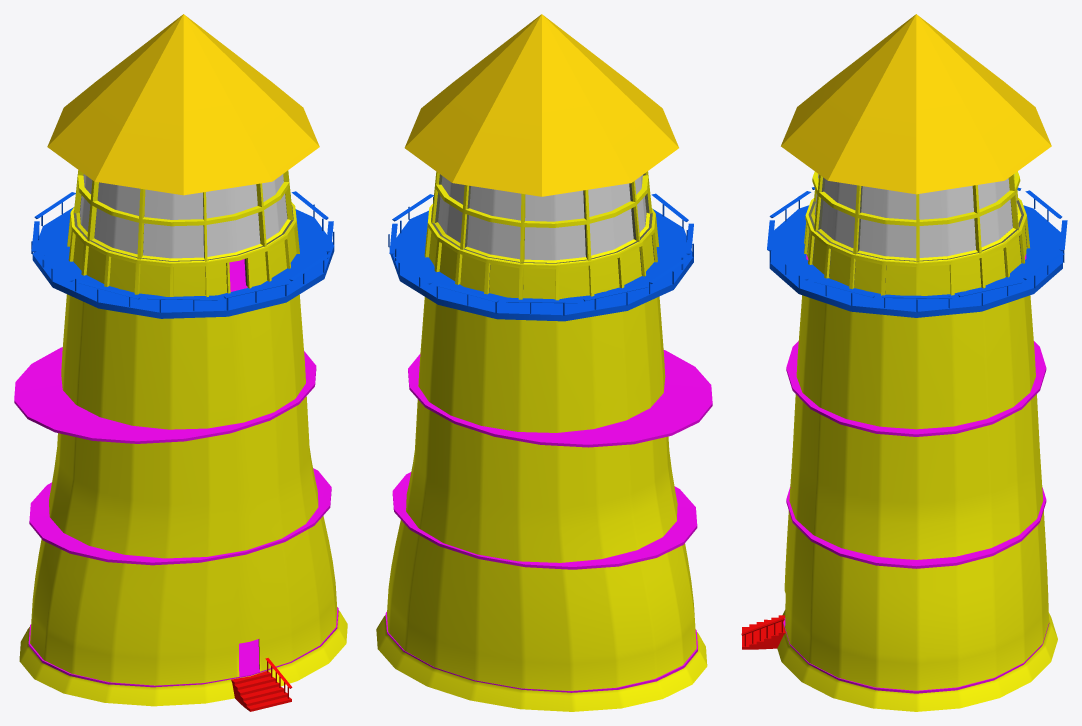
File: lighthouse_v7.fbx
The picture shows the model from 3 angles, left to right: view 1: azimuth 30°, elevation 25°; view 2: azimuth 150°, elevation 25°; view 3: azimuth 270°, elevation 25°; orthographic projection.
Parts seen in each view (by area): view 1: lighthouse_exterior, roof, Windows, balcony, floor_3, floor_2, balcony_rail, stair_entrance, floor_1, floor_4_wall; view 2: lighthouse_exterior, roof, Windows, balcony, floor_3, floor_2, balcony_rail, floor_4_wall, floor_1; view 3: lighthouse_exterior, roof, Windows, balcony, floor_3, floor_2, balcony_rail, stair_entrance, floor_4_wall, floor_1.
Boxes of the visible parts, bbox=[...] form: lighthouse_exterior: bbox=[19, 170, 347, 706]; roof: bbox=[47, 14, 319, 195]; Windows: bbox=[80, 174, 287, 258]; balcony: bbox=[32, 207, 334, 318]; floor_3: bbox=[14, 347, 316, 443]; floor_2: bbox=[29, 468, 331, 565]; balcony_rail: bbox=[31, 191, 334, 312]; stair_entrance: bbox=[231, 658, 292, 711]; floor_1: bbox=[28, 607, 338, 687]; floor_4_wall: bbox=[73, 192, 293, 294]; lighthouse_exterior: bbox=[376, 171, 707, 711]; roof: bbox=[404, 14, 678, 196]; Windows: bbox=[438, 175, 646, 260]; balcony: bbox=[389, 209, 693, 321]; floor_3: bbox=[408, 350, 712, 447]; floor_2: bbox=[392, 472, 697, 569]; balcony_rail: bbox=[388, 193, 693, 315]; floor_4_wall: bbox=[431, 173, 654, 291]; floor_1: bbox=[385, 612, 697, 692]; lighthouse_exterior: bbox=[777, 171, 1057, 711]; roof: bbox=[781, 14, 1051, 194]; Windows: bbox=[814, 174, 1017, 258]; balcony: bbox=[769, 205, 1062, 317]; floor_3: bbox=[786, 341, 1046, 436]; floor_2: bbox=[786, 487, 1046, 568]; balcony_rail: bbox=[767, 187, 1067, 312]; stair_entrance: bbox=[741, 615, 785, 649]; floor_4_wall: bbox=[807, 177, 1027, 293]; floor_1: bbox=[783, 618, 1049, 693].
Size of the model in its own units: 25.27 by 49.71 by 23.49.
